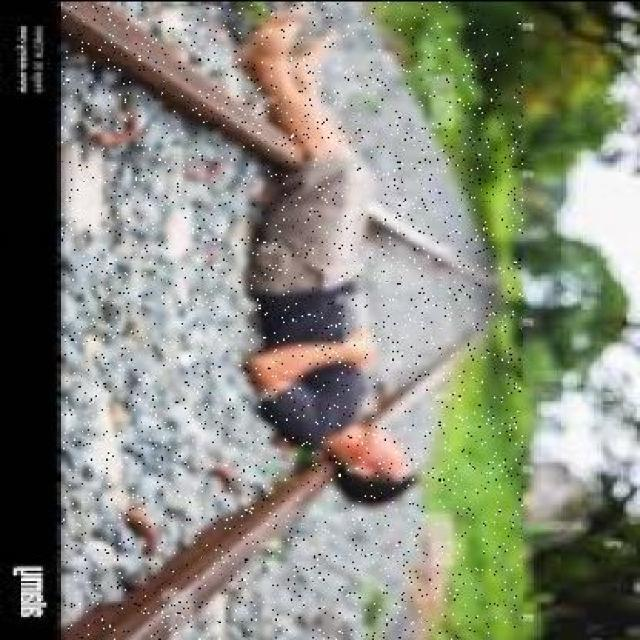danger: (237, 0, 443, 498)
rail: (62, 5, 522, 640)
